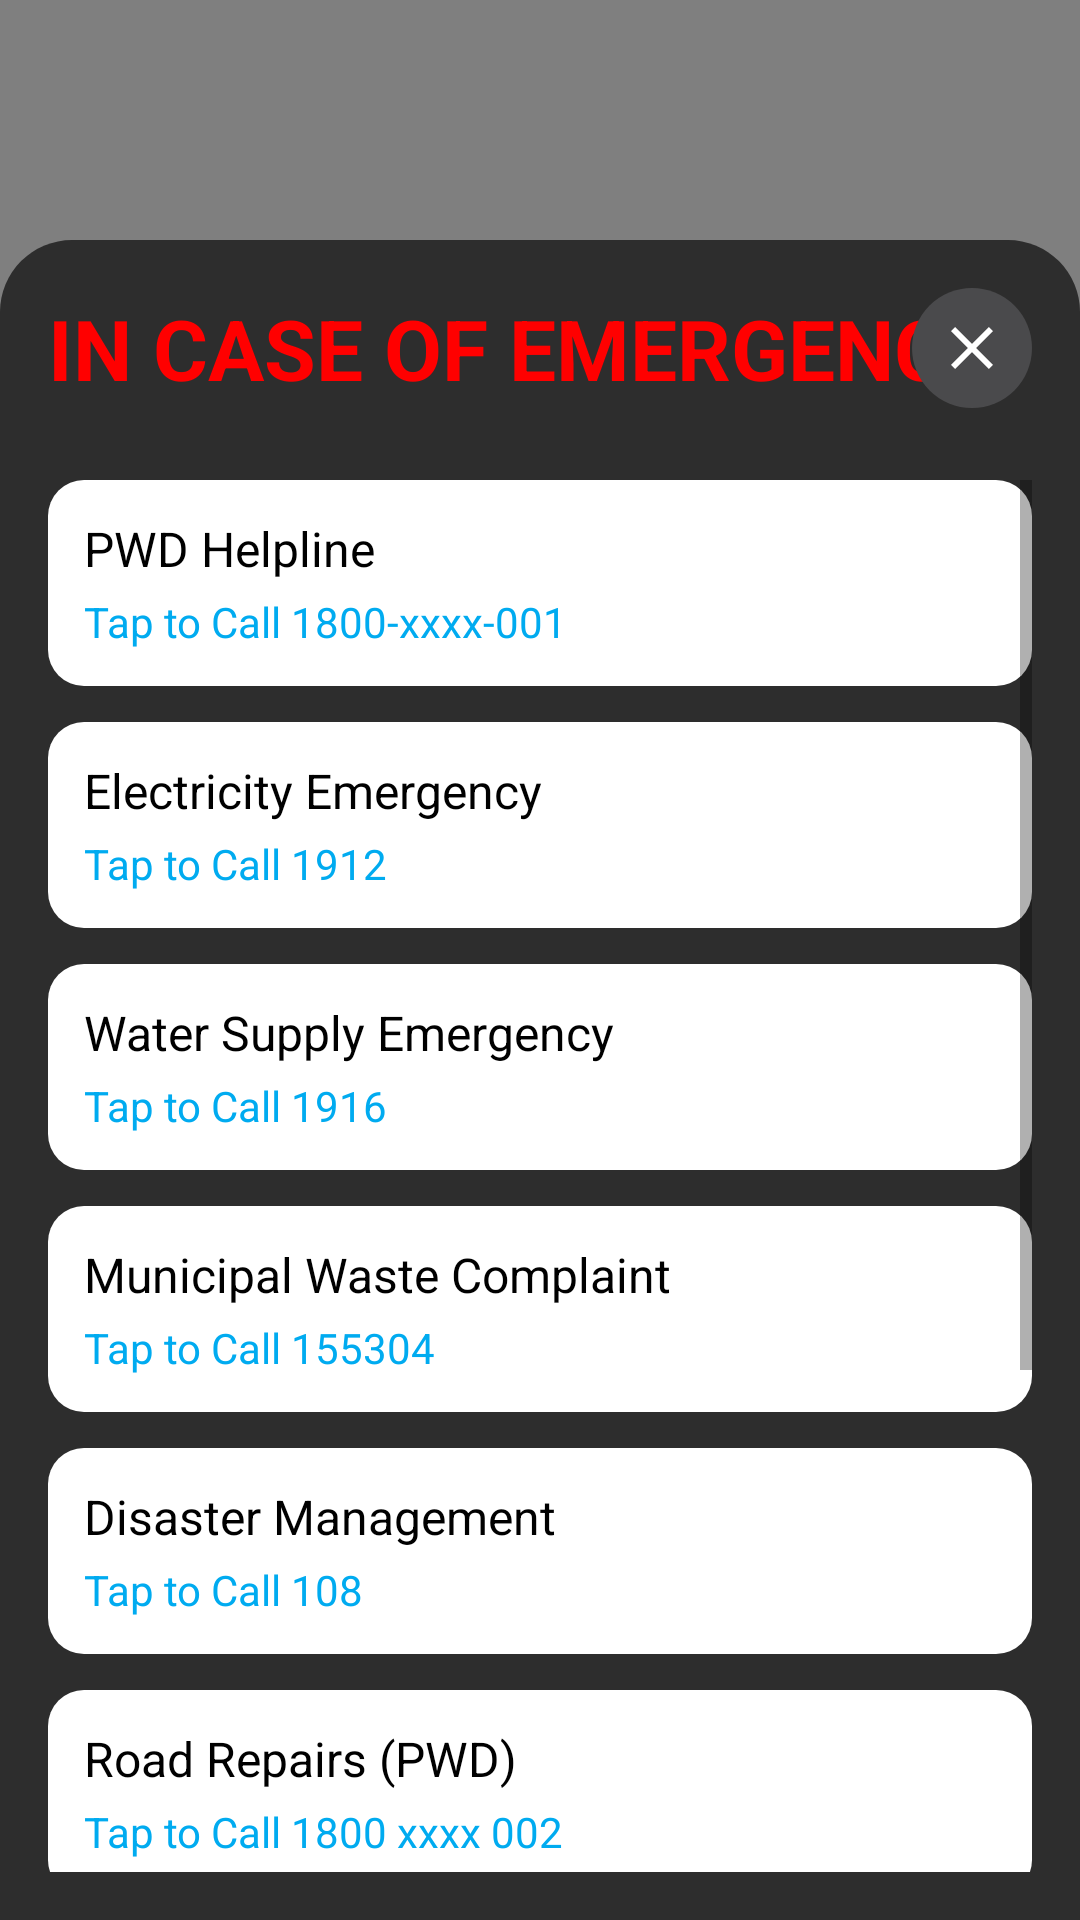

Screen size 1080px×1920px. Icon name, then its box in pixels as (x1=x1, y1=y1, x2=x2, y2=y2):
Close: (x1=912, y1=288, x2=1032, y2=408)
